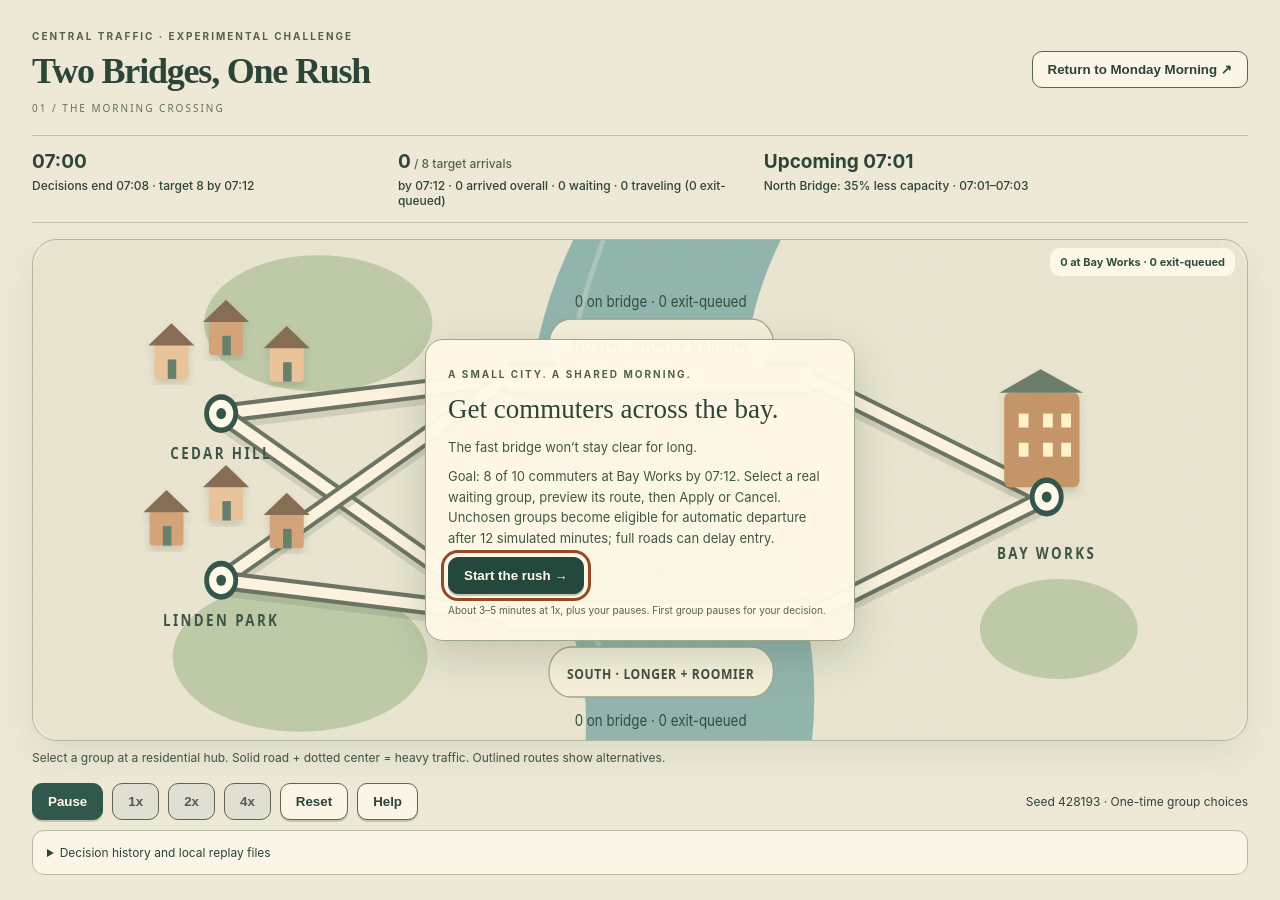
arrival goal, urgency and observed feedback › keeps the configured target identical in intro, gameplay, Help and results
Click the button "Help" at (388, 802), box [357, 783, 418, 820]
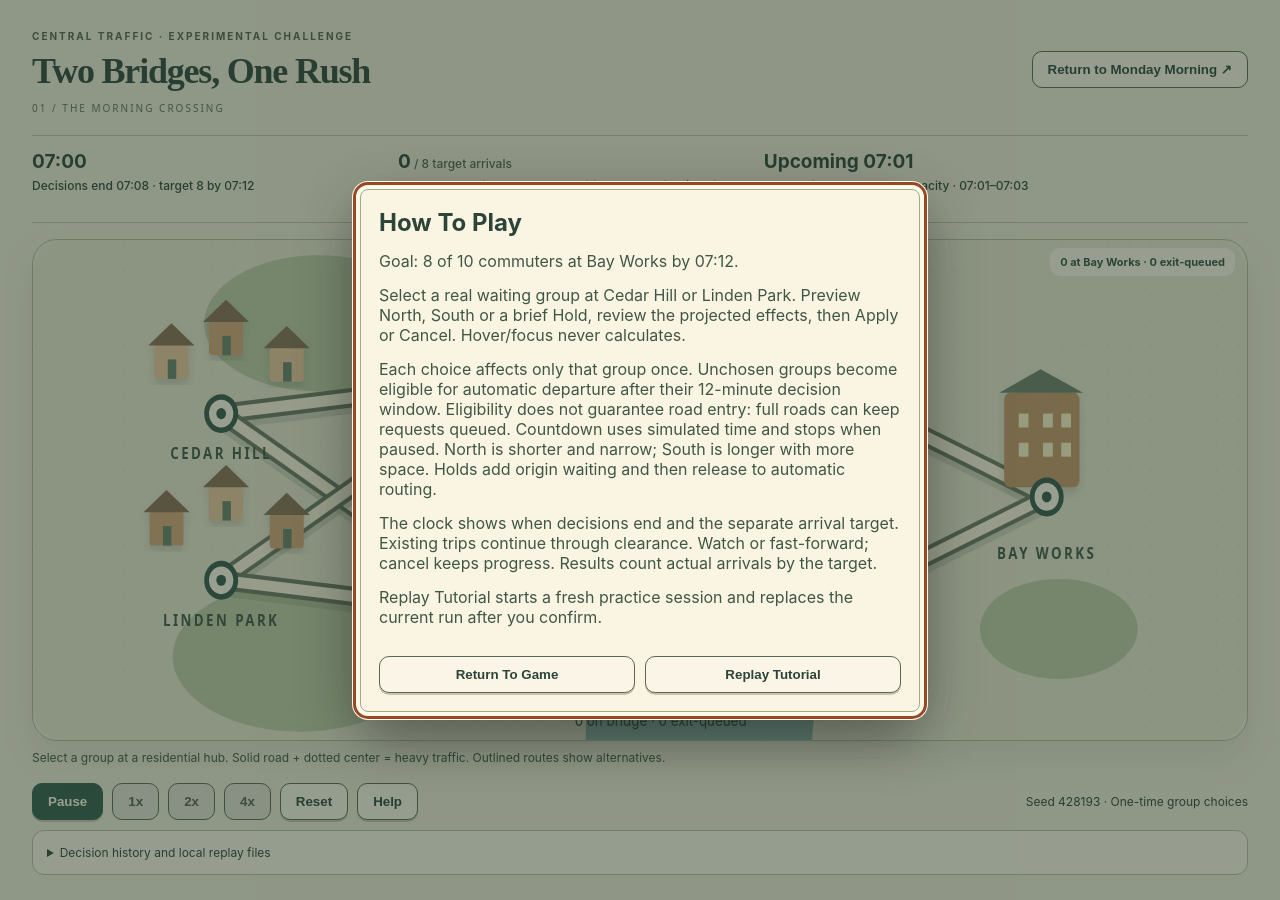
Click the button "Return To Game" at (507, 674), box [379, 656, 635, 692]
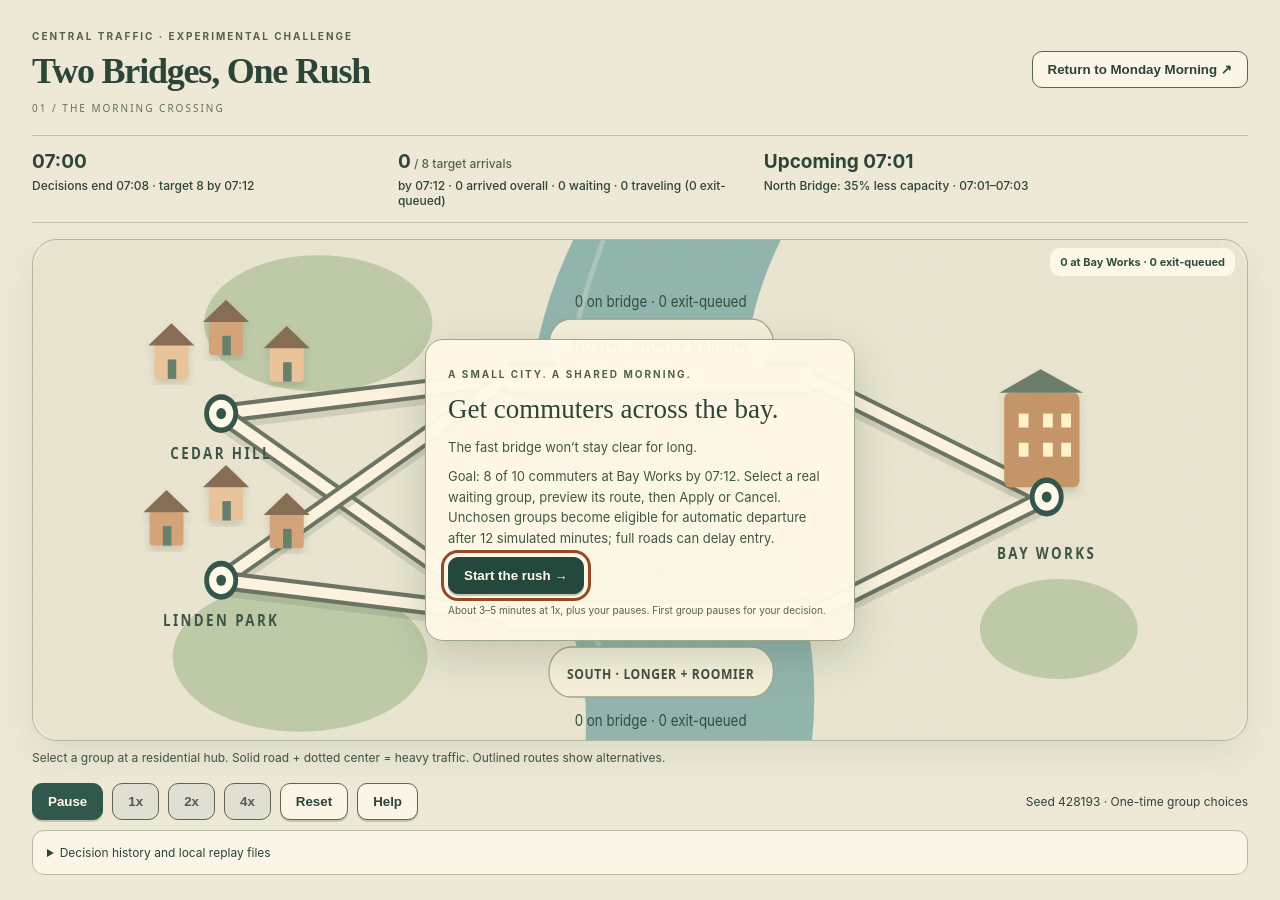
Click the button "Start the rush →" at (516, 576), box [448, 557, 584, 594]
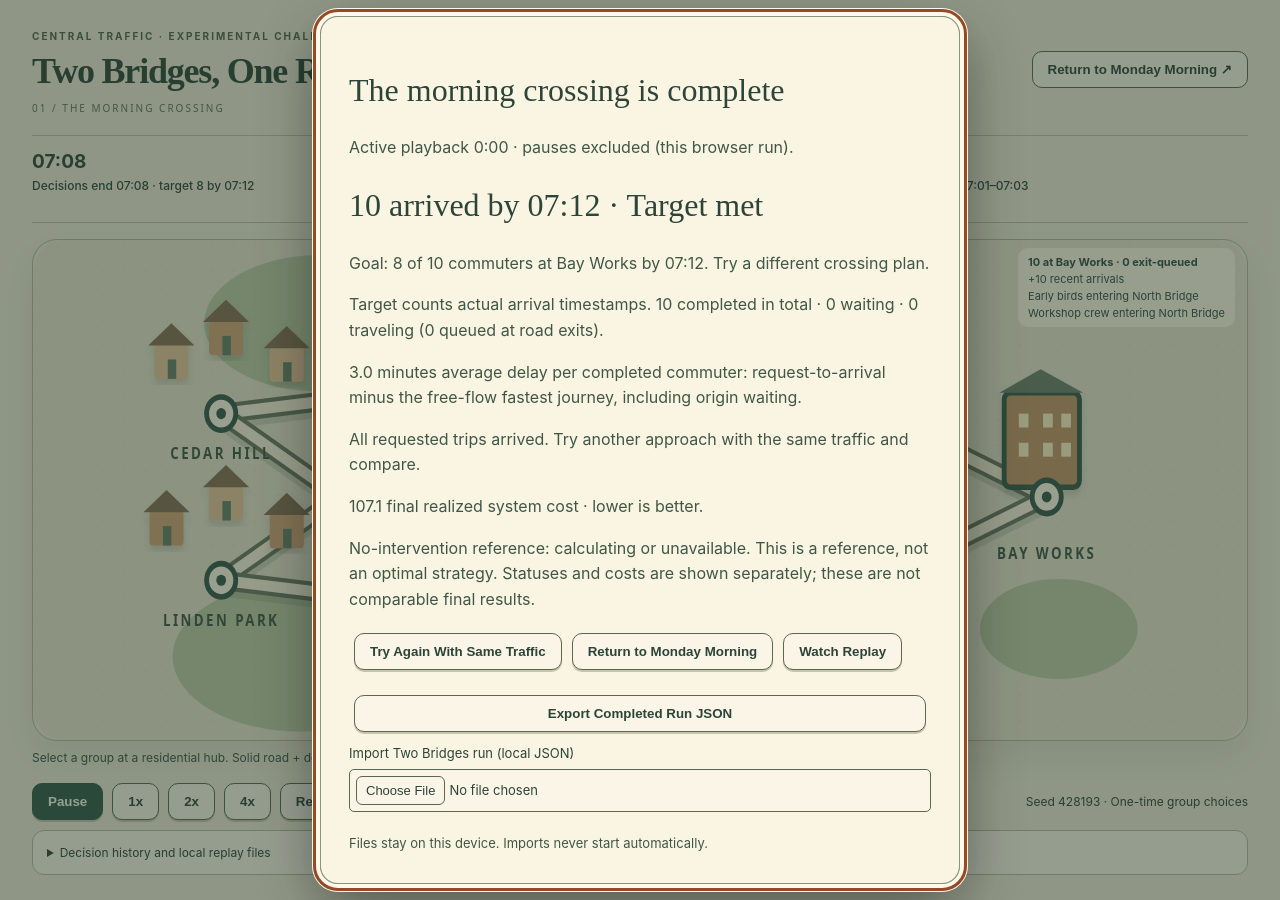
Expected: the dialog shows "Try a different crossing plan", [704, 253, 929, 273]
